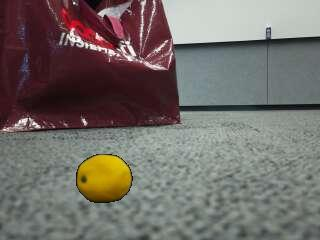lemon: (77, 155, 131, 203)
